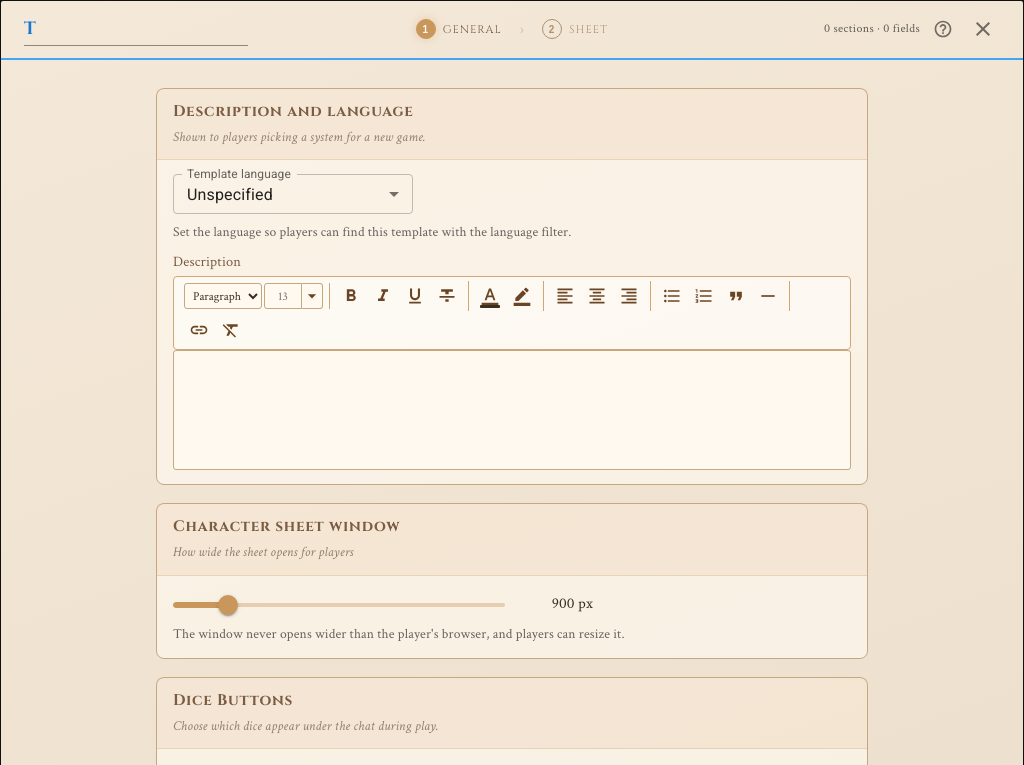
it: a timer pending when the 409 lands does not save after "Load their version"
The width and height of the screenshot is (1024, 765).
Replace the text in the field with placeholder "System name" in the row of "sections" with "A" at (136, 29), box x1=24 y1=12 x2=248 y2=46
Wait 1300 ms
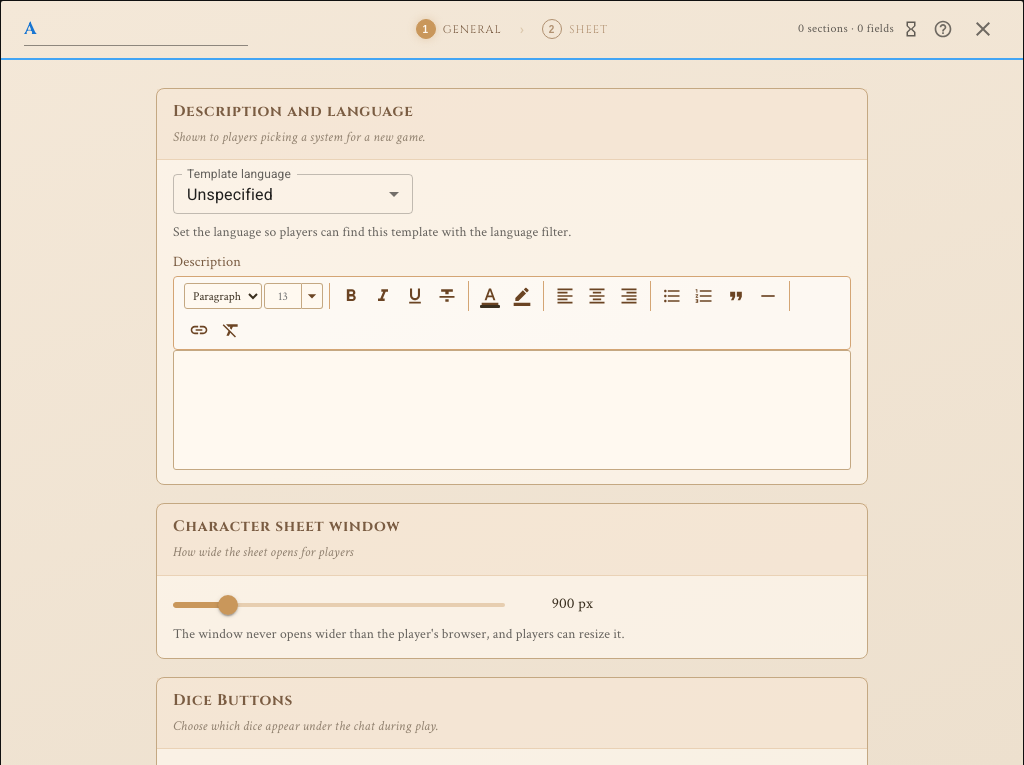
Replace the text in the field with placeholder "System name" in the row of "sections" with "Mine" at (136, 29), box x1=24 y1=12 x2=248 y2=46
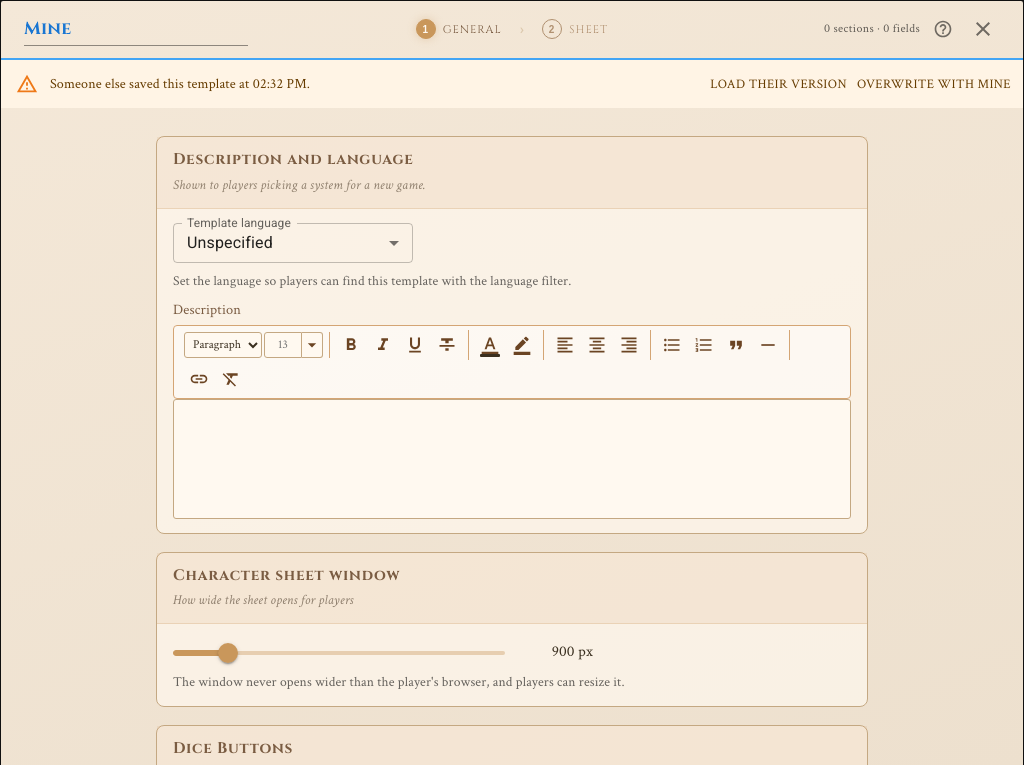
Check: the text "Someone else saved this template at 02:32 PM." is shown, box x1=50 y1=75 x2=310 y2=93
Click the button "Load their version" at (779, 86), box x1=705 y1=70 x2=852 y2=101
Wait 1300 ms
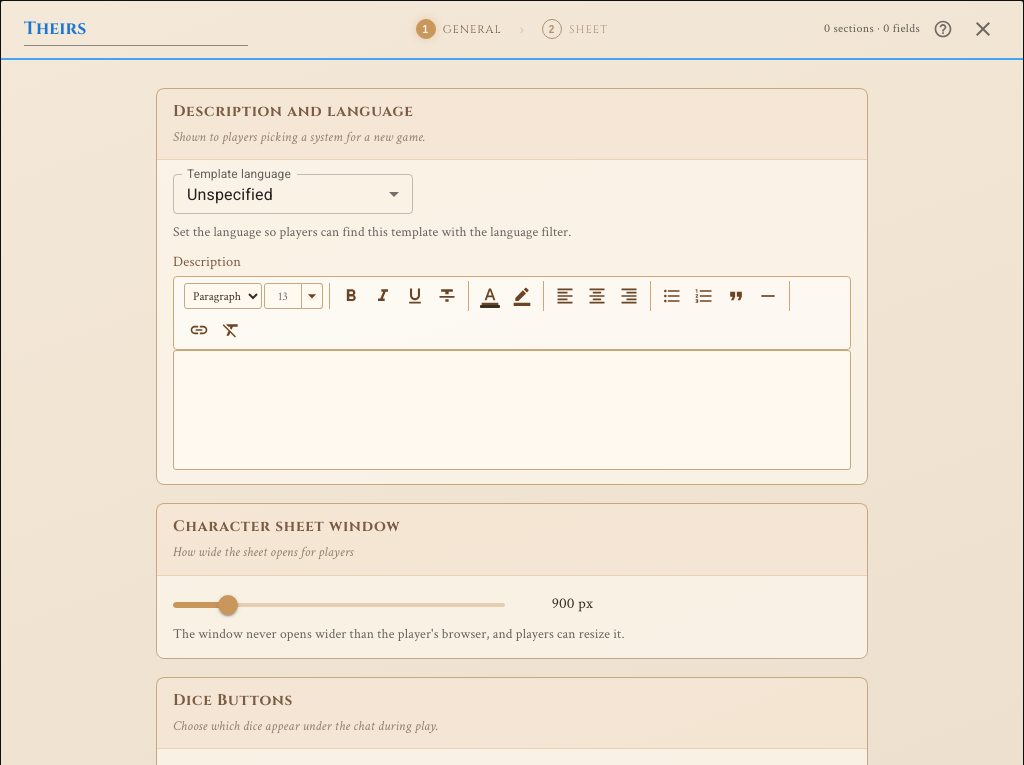
Check: the field with placeholder "System name" in the row of "sections" holds "Theirs", box x1=24 y1=12 x2=248 y2=46
